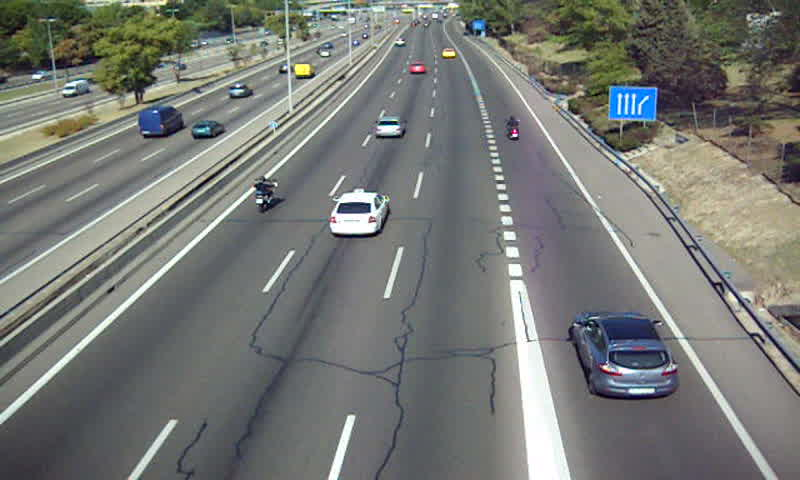car: (572, 314, 679, 398), (329, 192, 388, 236), (373, 116, 405, 139), (409, 61, 427, 76), (441, 48, 457, 58)
motorcycle: (253, 176, 276, 211), (506, 114, 522, 142)
